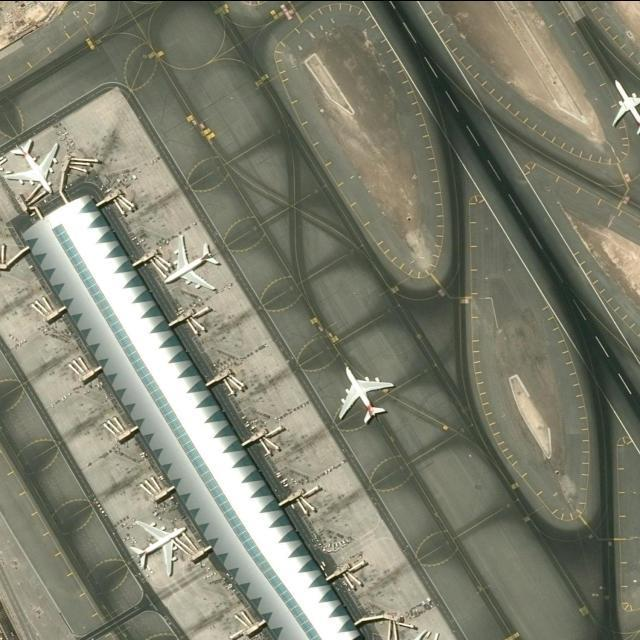Aircraft: (162, 232, 224, 294), (335, 366, 395, 429), (131, 517, 191, 579), (8, 135, 60, 199), (606, 77, 640, 137)
